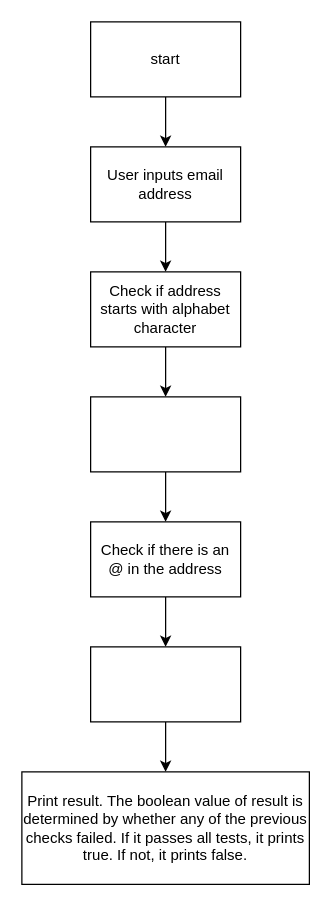
Image size: 331x906. Some labels were removed from this diagram. Here are the shapes that lost their labels. From the top down, the centre of each, then its label:
(x=165, y=434): Check if length of address is greater than 5 and less than 30
(x=165, y=684): Check if there is a period located after the @
